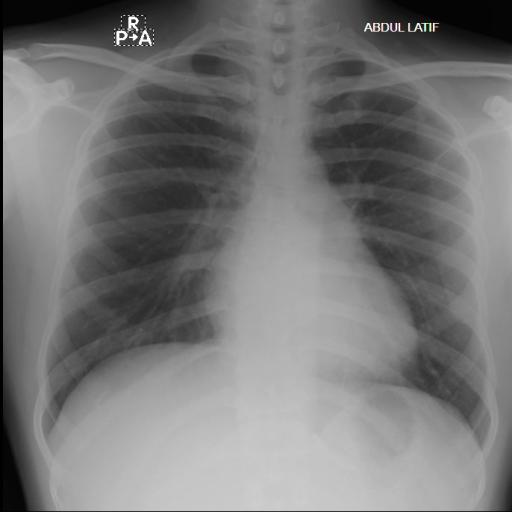kardiomegali: (18, 12, 504, 470)
